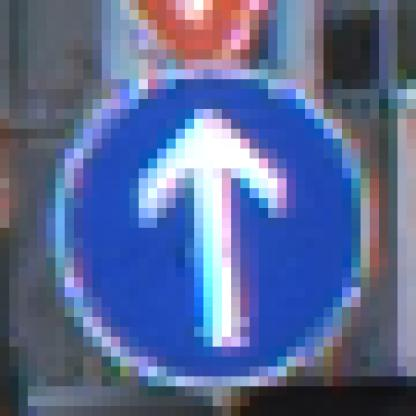AheadOnly: (56, 61, 371, 368)
